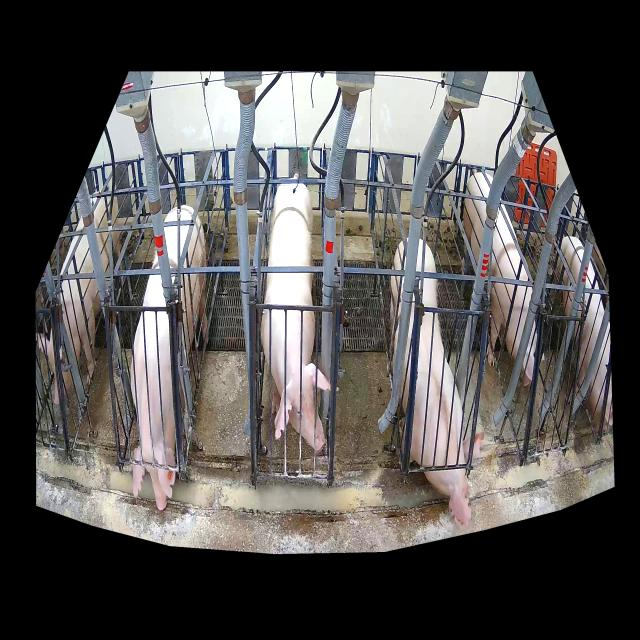pig: (389, 236, 484, 532), (131, 205, 207, 511), (260, 183, 330, 455), (35, 191, 121, 403), (460, 173, 537, 386), (556, 236, 614, 434)
